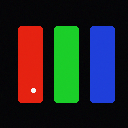0 point: (31, 88, 35, 92)
